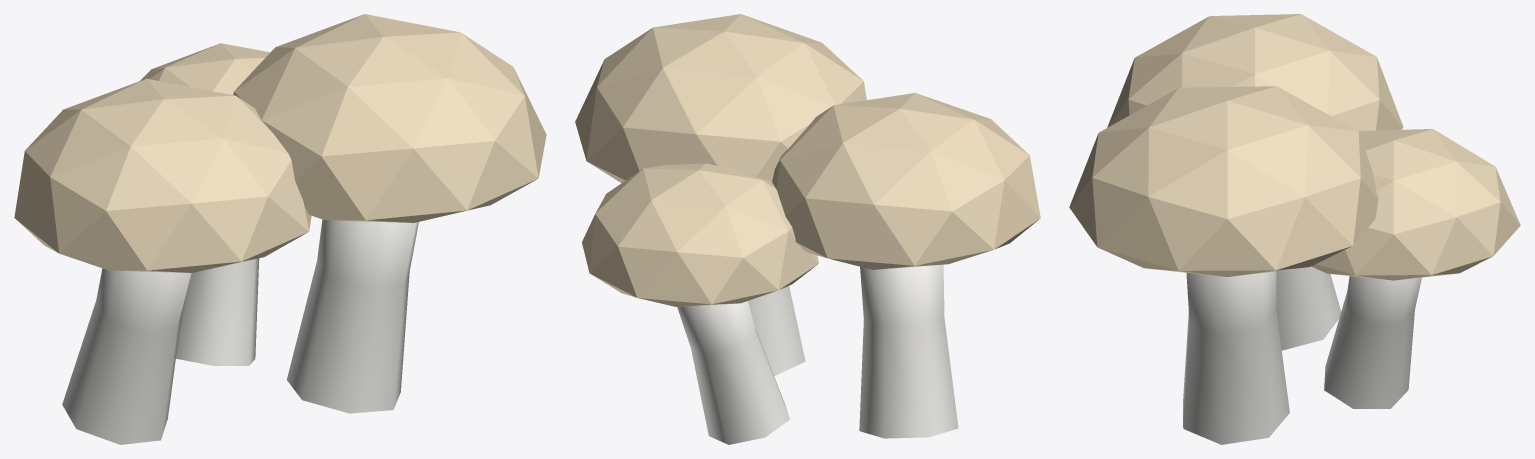
The model's file is mushroom_tan_group.glb.
The picture shows the model from 3 angles, left to right: view 1: azimuth 30°, elevation 25°; view 2: azimuth 150°, elevation 25°; view 3: azimuth 270°, elevation 25°; orthographic projection. The views are drawn at different scales.
Parts seen in each view (by area): view 1: mushroom_tan_group; view 2: mushroom_tan_group; view 3: mushroom_tan_group.
Boxes of the visible parts, box(x1,y1,x2,y2) form: mushroom_tan_group: box(14, 14, 546, 444); mushroom_tan_group: box(575, 14, 1040, 444); mushroom_tan_group: box(1069, 14, 1520, 444).
Bounding box in the file's own units: 0.22 × 0.1601 × 0.1925.
